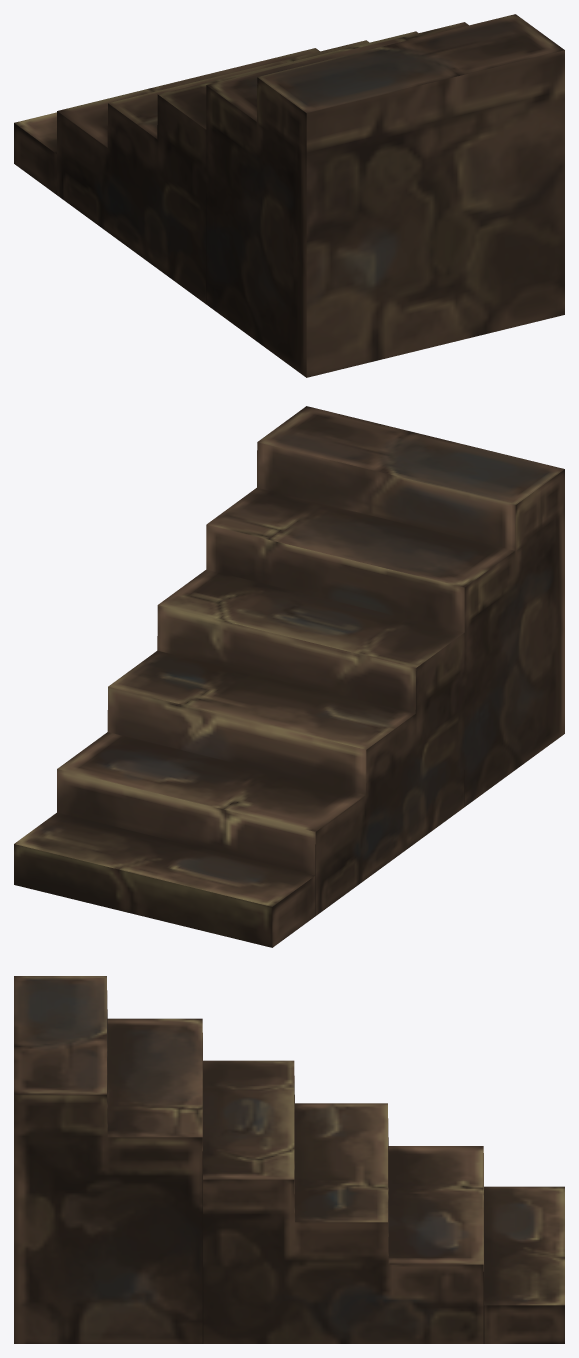
File: ladder_first.obj
The picture shows the model from 3 angles, top to bottom: view 1: azimuth 30°, elevation 25°; view 2: azimuth 150°, elevation 25°; view 3: azimuth 270°, elevation 25°; orthographic projection. The views are drawn at different scales.
Visible parts, largest first — view 1: pCube2; view 2: pCube2; view 3: pCube2.
Boxes of the visible parts, x1,y1,x2,y2 form: pCube2: (14,14,564,377); pCube2: (14,406,564,947); pCube2: (14,976,564,1343).
Bounding box in the file's own units: 0.6 × 0.5872 × 1.18.
1 material, 1 textured.
